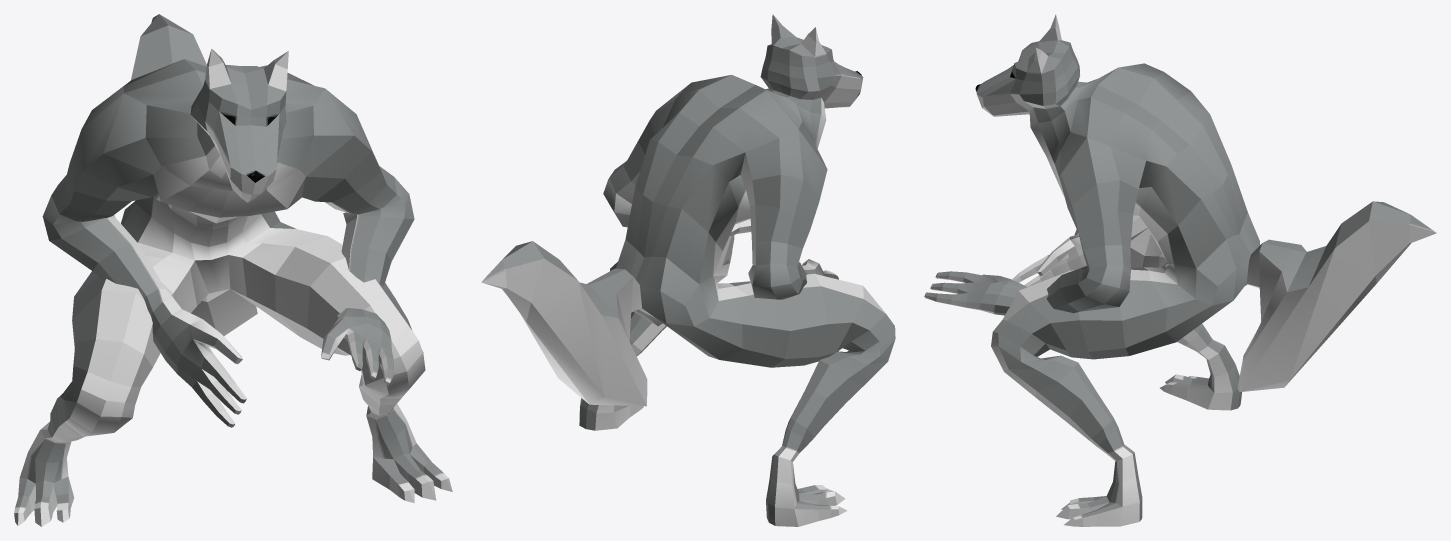
File: WolfAttack(72).obj
3 renders of one model, left to right at view 1: azimuth 30°, elevation 25°; view 2: azimuth 150°, elevation 25°; view 3: azimuth 270°, elevation 25°, orthographic. The views are drawn at different scales.
Visible parts, largest first — view 1: Box001; view 2: Box001; view 3: Box001.
Part boxes in pixels (x1,y1,x2,y2): Box001: (14,14,452,526); Box001: (481,14,895,526); Box001: (924,14,1436,526).
Size of the model in its own units: 78.63 by 105 by 117.
